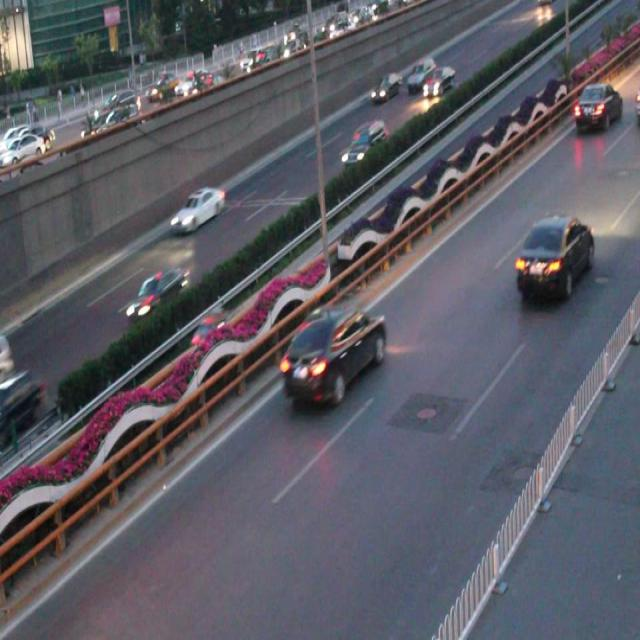car: (282, 306, 385, 402), (515, 212, 595, 300), (1, 364, 48, 443), (125, 267, 189, 322), (171, 184, 224, 233), (339, 120, 388, 170), (368, 73, 402, 105), (422, 67, 454, 100), (406, 56, 433, 89)
